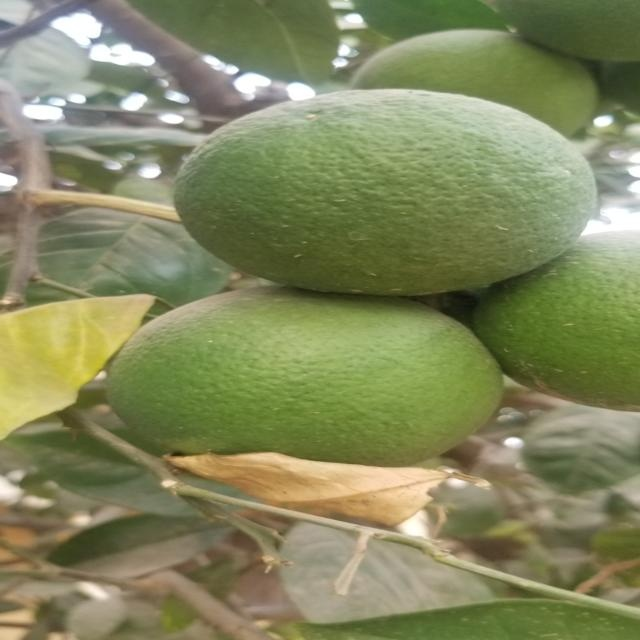agrume: (153, 83, 595, 303), (91, 287, 509, 494)
